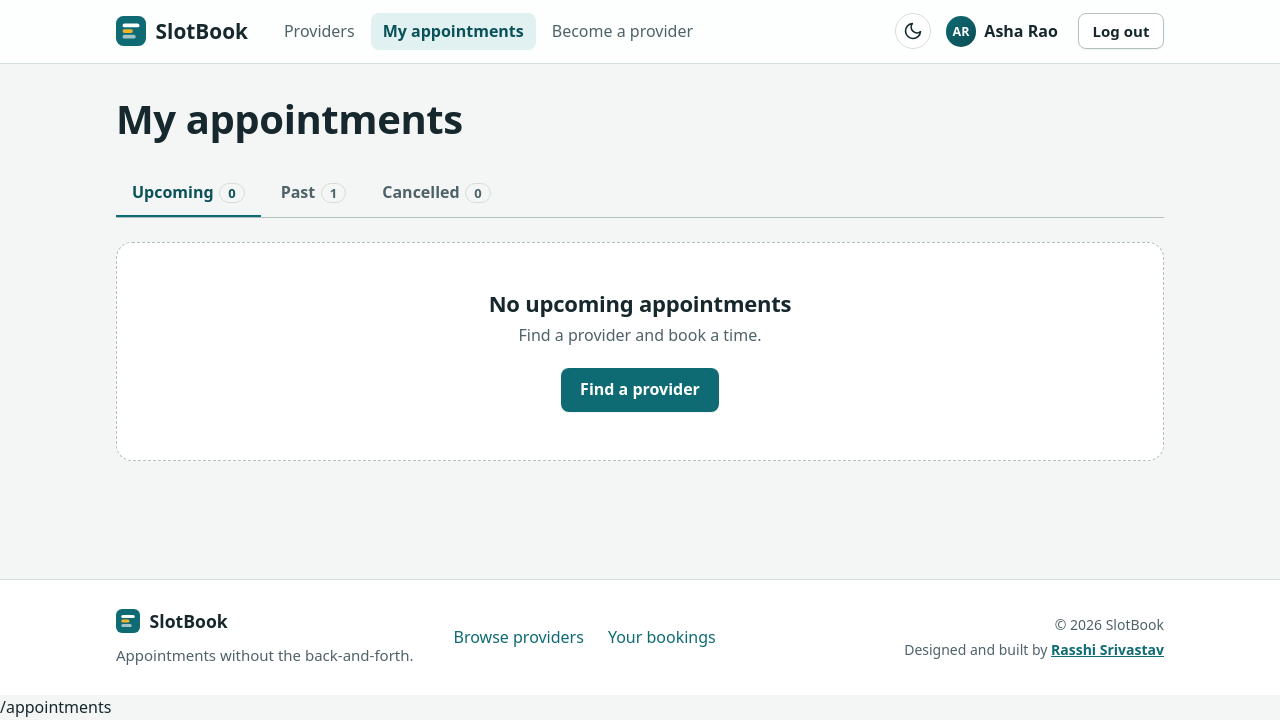
Test case: reviewing a finished appointment › works with the keyboard: arrow keys change the stars
Step 1. Click the tab "Past1" → (313, 194), box [265,170,362,218]
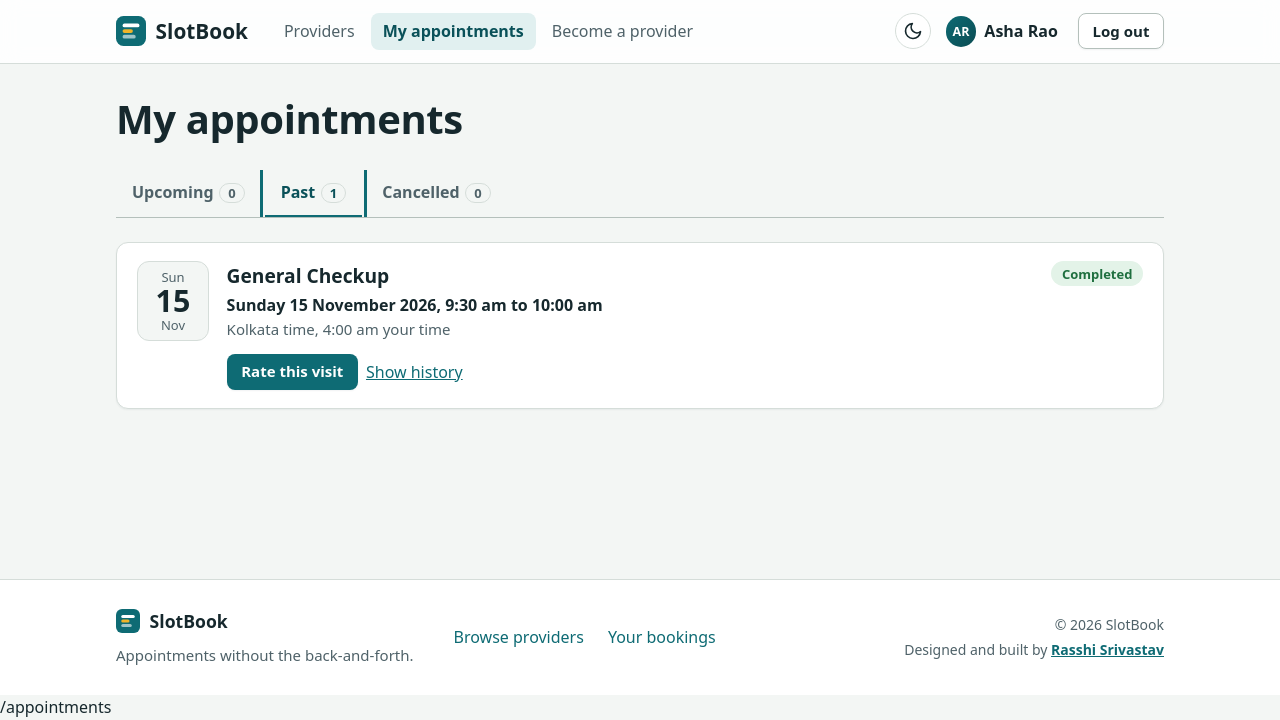
Step 2. Click the button "Rate this visit" → (292, 372), box [227,354,358,390]
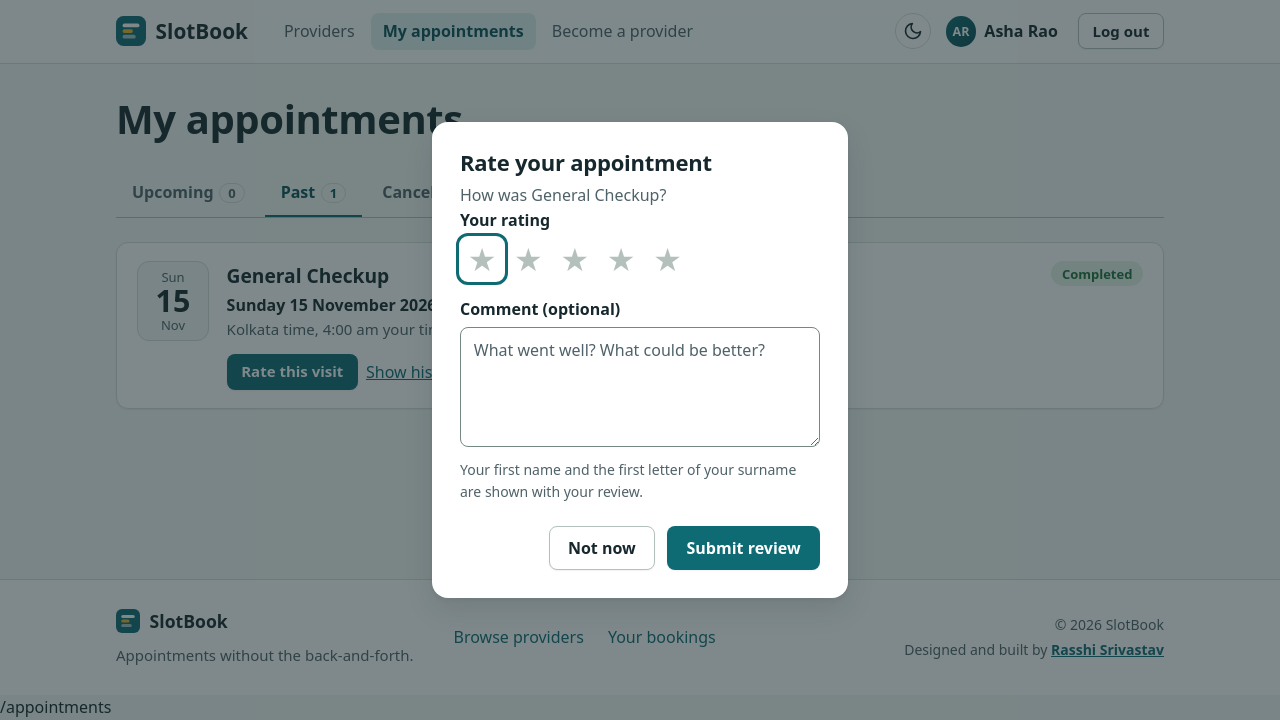
Step 3. Click the radio button named "1 star, Poor" → (484, 267), box [468,237,500,296]
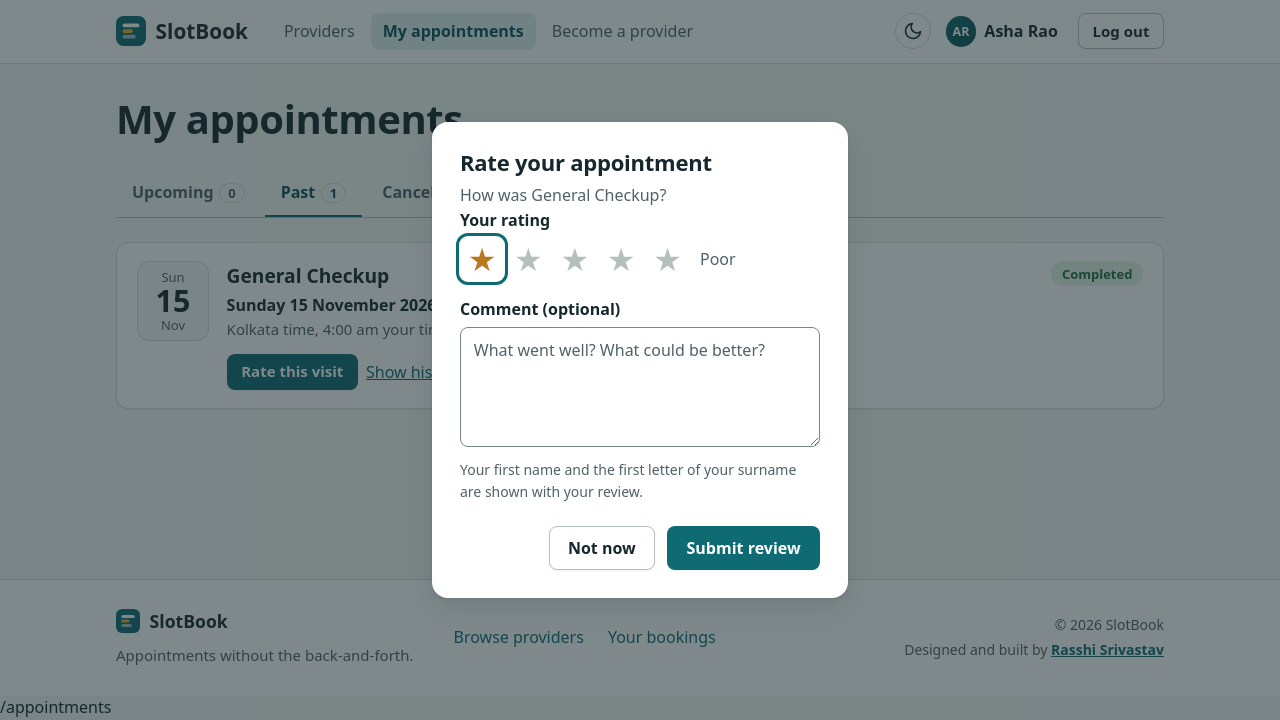
Step 4. Press Arrowright Arrowright
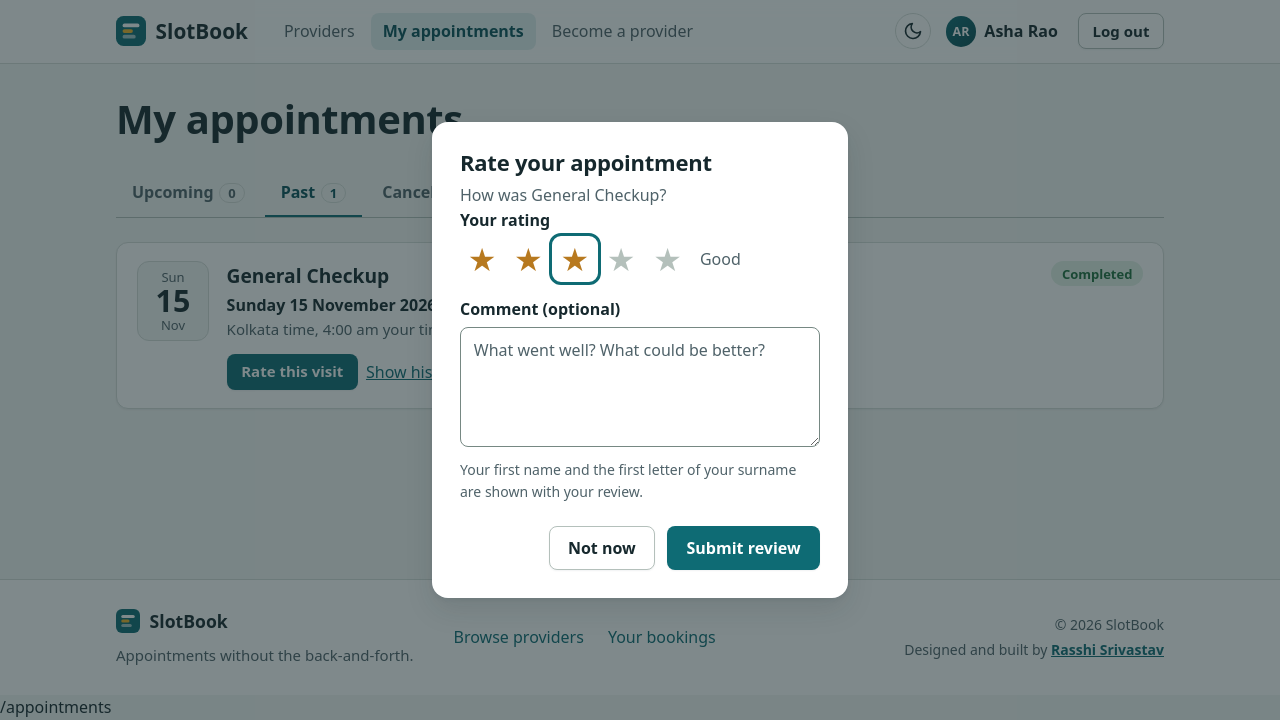
Expected: the radio button named "3 stars, Good" is checked, [560,237,593,296]
